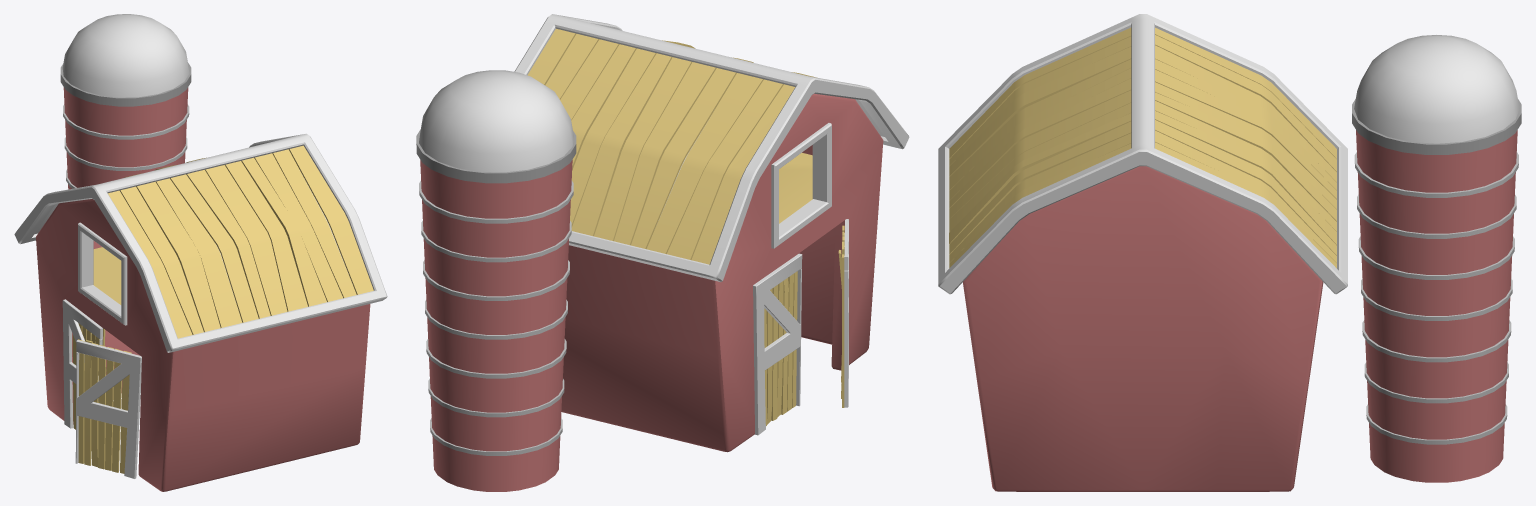
Rendered from farm.fbx.
3 renders of one model, left to right at view 1: azimuth 30°, elevation 25°; view 2: azimuth 150°, elevation 25°; view 3: azimuth 270°, elevation 25°, orthographic. The views are drawn at different scales.
Visible parts, largest first — view 1: 4_2; view 2: 4_2; view 3: 4_2.
Part boxes in pixels (x1=…): 4_2: x1=14, y1=14, x2=387, y2=491; 4_2: x1=416, y1=14, x2=909, y2=491; 4_2: x1=938, y1=14, x2=1521, y2=491.
Size of the model in its own units: 401 by 506 by 653.
